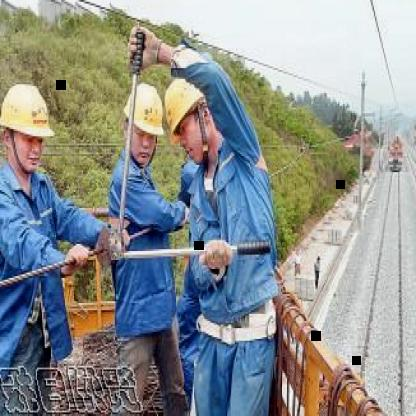helmet: (0, 81, 55, 140), (121, 79, 166, 138)
